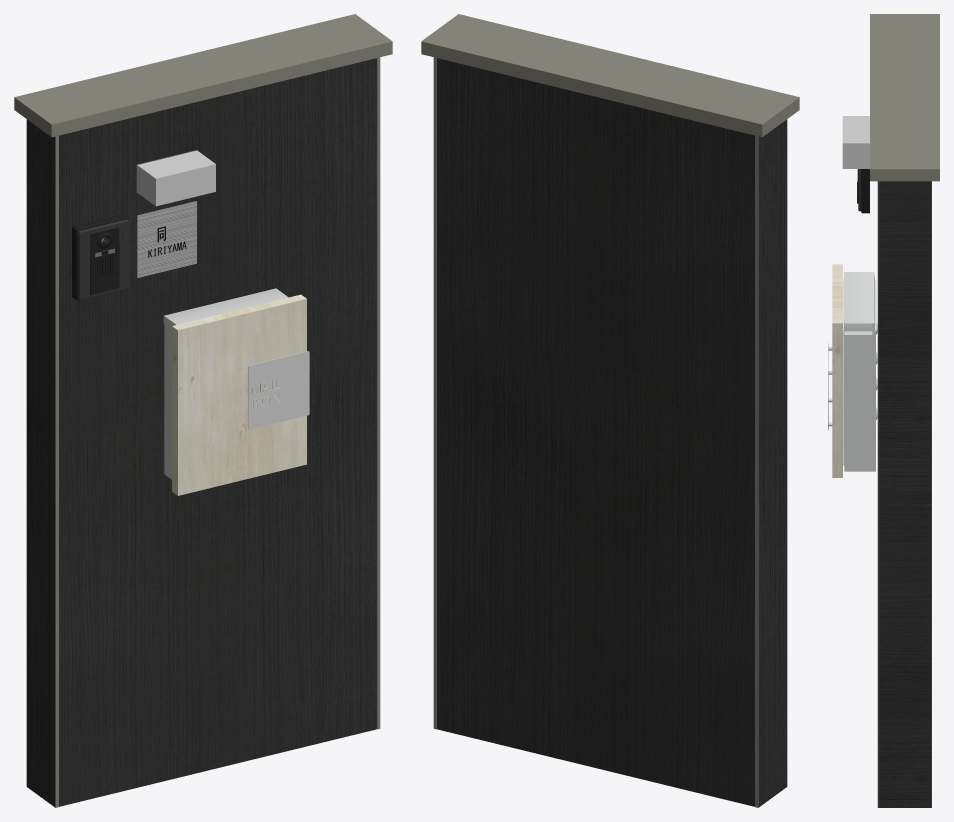
File: abmonchu_w08_chacolgray.fbx
3 renders of one model, left to right at view 1: azimuth 30°, elevation 25°; view 2: azimuth 150°, elevation 25°; view 3: azimuth 270°, elevation 25°, orthographic. The views are drawn at different scales.
Visible parts, largest first — view 1: abmonchu_w08_chacolgray; view 2: abmonchu_w08_chacolgray; view 3: abmonchu_w08_chacolgray.
Boxes of the visible parts, x1=… form: abmonchu_w08_chacolgray: x1=14, y1=14, x2=392, y2=807; abmonchu_w08_chacolgray: x1=421, y1=14, x2=799, y2=807; abmonchu_w08_chacolgray: x1=828, y1=14, x2=939, y2=807.
Bounding box in the file's own units: 84 × 162 × 25.57.
14 materials, 8 textured.
